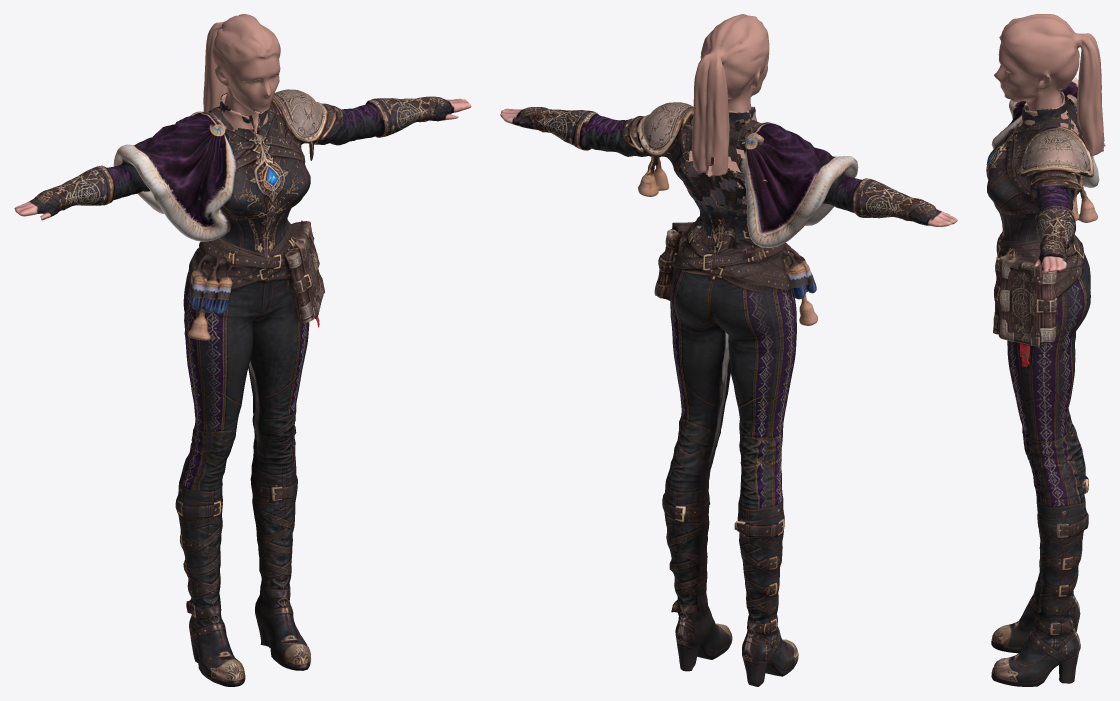
File: sorceress_for_mixamo.fbx
3 renders of one model, left to right at view 1: azimuth 30°, elevation 25°; view 2: azimuth 150°, elevation 25°; view 3: azimuth 270°, elevation 25°, orthographic.
Visible parts, largest first — view 1: Sorceress; view 2: Sorceress; view 3: Sorceress.
Boxes of the visible parts, box(x1,y1,x2,y2) form: Sorceress: box(14, 14, 471, 686); Sorceress: box(500, 14, 957, 686); Sorceress: box(986, 14, 1105, 686).
Size of the model in its own units: 73.27 by 100 by 16.7.
Materials: 2 (2 with a texture image).
